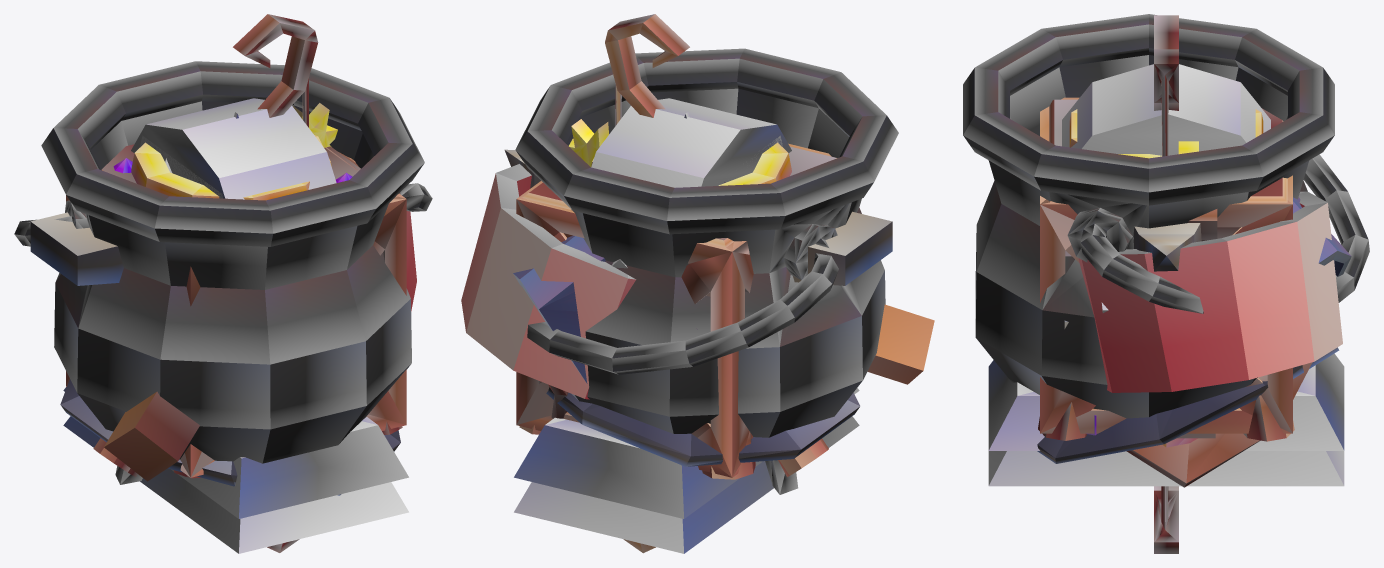
The model's file is Flat_.fbx.
3 views of the same model, side by side, from view 1: azimuth 30°, elevation 25°; view 2: azimuth 150°, elevation 25°; view 3: azimuth 270°, elevation 25° (orthographic).
Visible parts, largest first — view 1: cauldron01, tombStone04, tombStone01, pot01, box, anvil, bow, gauntlet, wizardHat, stool, bomb; view 2: cauldron01, tombStone04, pot01, box, tombStone01, wizardHat, bow, anvil, bag01, stool, gauntlet, bomb (+1 smaller); view 3: cauldron01, pot01, tombStone04, box, tombStone01, wizardHat, bag01, bow, stool, anvil, gauntlet, bread.
Boxes of the visible parts, box(x1,y1,x2,y2) form: cauldron01: box(14, 61, 432, 484); tombStone04: box(63, 98, 408, 553); tombStone01: box(63, 135, 408, 518); pot01: box(104, 211, 416, 481); box: box(66, 157, 406, 477); anvil: box(30, 212, 123, 285); bow: box(233, 14, 318, 552); gauntlet: box(131, 135, 331, 200); wizardHat: box(60, 379, 400, 495); stool: box(101, 144, 402, 478); bomb: box(292, 103, 337, 147); cauldron01: box(515, 48, 898, 494); tombStone04: box(514, 98, 859, 553); pot01: box(461, 164, 934, 399); box: box(516, 143, 831, 477); tombStone01: box(514, 135, 859, 518); wizardHat: box(546, 387, 860, 466); bow: box(605, 14, 689, 553); anvil: box(504, 149, 892, 285); bag01: box(513, 182, 725, 418); stool: box(519, 134, 836, 479); gauntlet: box(591, 142, 791, 185); bomb: box(569, 119, 608, 166); cauldron01: box(963, 14, 1369, 418); pot01: box(1078, 191, 1342, 392); tombStone04: box(988, 64, 1344, 486); box: box(1040, 97, 1292, 433); tombStone01: box(988, 353, 1344, 450); wizardHat: box(1037, 347, 1339, 463); bag01: box(1127, 197, 1351, 487); bow: box(1154, 15, 1178, 553); stool: box(1038, 99, 1294, 441); anvil: box(1133, 223, 1201, 271); gauntlet: box(1069, 109, 1263, 447); bread: box(1177, 209, 1217, 438).
Size of the model in its own units: 171 by 235 by 161.
